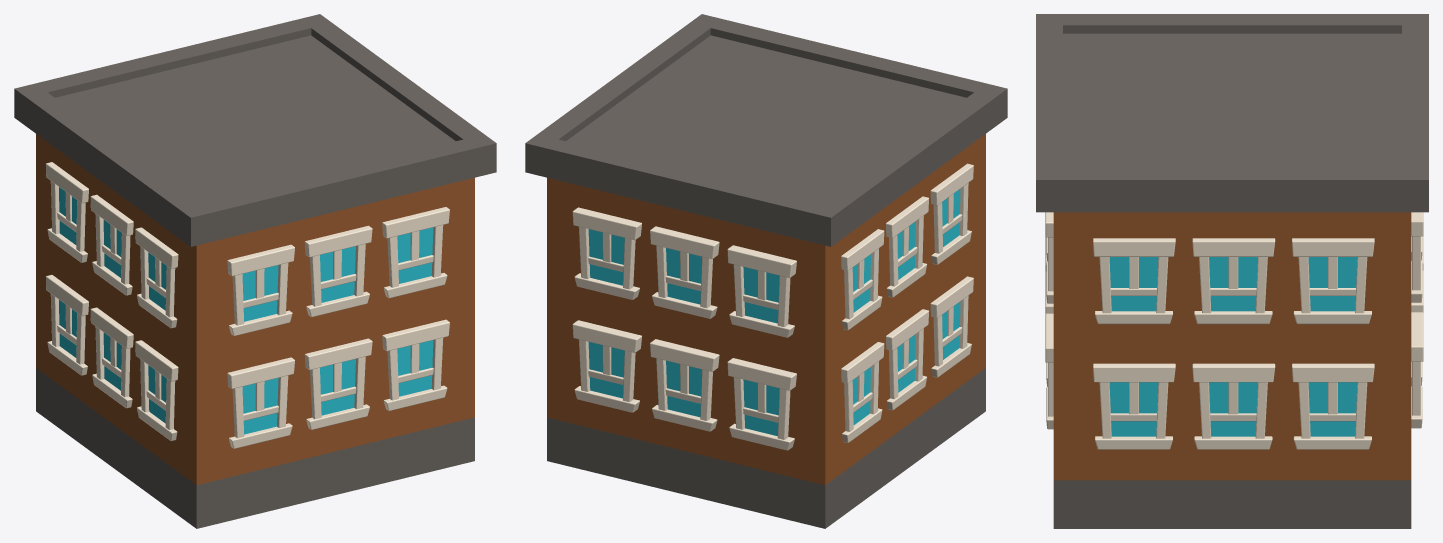
Rendered from Building1.glb.
The picture shows the model from 3 angles, left to right: view 1: azimuth 30°, elevation 25°; view 2: azimuth 150°, elevation 25°; view 3: azimuth 270°, elevation 25°; orthographic projection. The views are drawn at different scales.
Parts seen in each view (by area): view 1: Building1; view 2: Building1; view 3: Building1.
Part boxes in pixels (x1=…): Building1: x1=14, y1=14, x2=496, y2=528; Building1: x1=525, y1=14, x2=1007, y2=528; Building1: x1=1036, y1=14, x2=1428, y2=528.
Bounding box in the file's own units: 4.4 × 4.4 × 4.4.
1 material, 1 textured.
